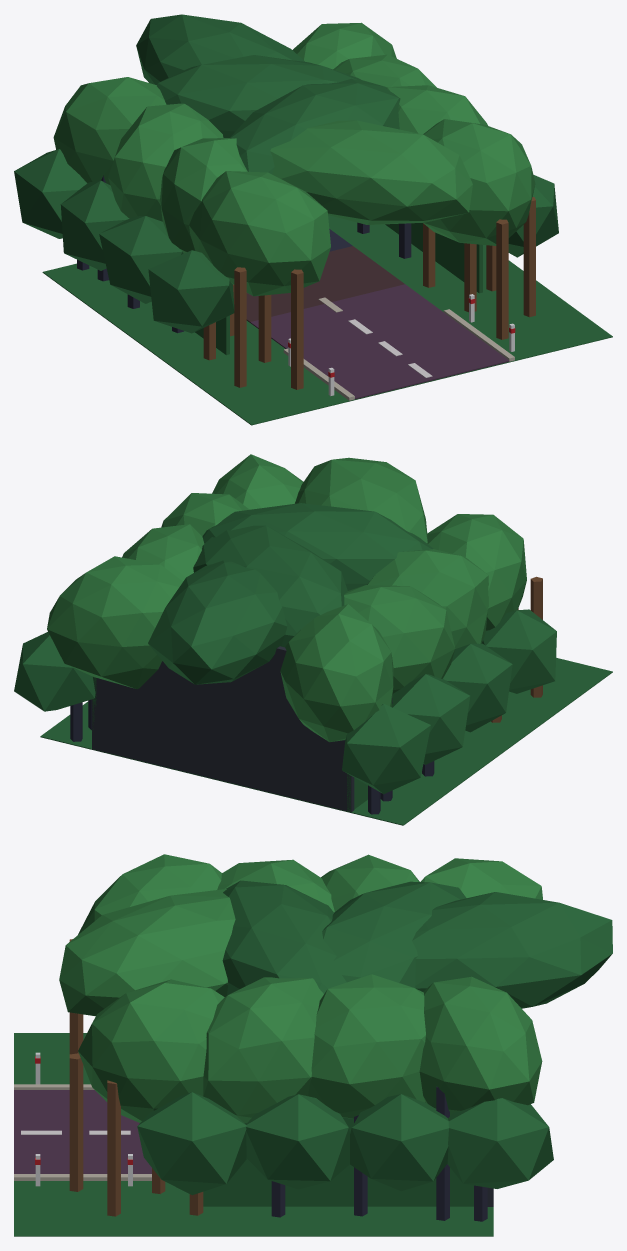
File: forest_road.glb
The picture shows the model from 3 angles, top to bottom: view 1: azimuth 30°, elevation 25°; view 2: azimuth 150°, elevation 25°; view 3: azimuth 270°, elevation 25°; orthographic projection. The views are drawn at different scales.
Visible parts, largest first — view 1: forest_road; view 2: forest_road; view 3: forest_road.
Part boxes in pixels (x1,y1,x2,y2): forest_road: (14,14,612,425); forest_road: (14,454,612,825); forest_road: (14,854,612,1236).
Bounding box in the file's own units: 15.64 × 7.45 × 17.48.
